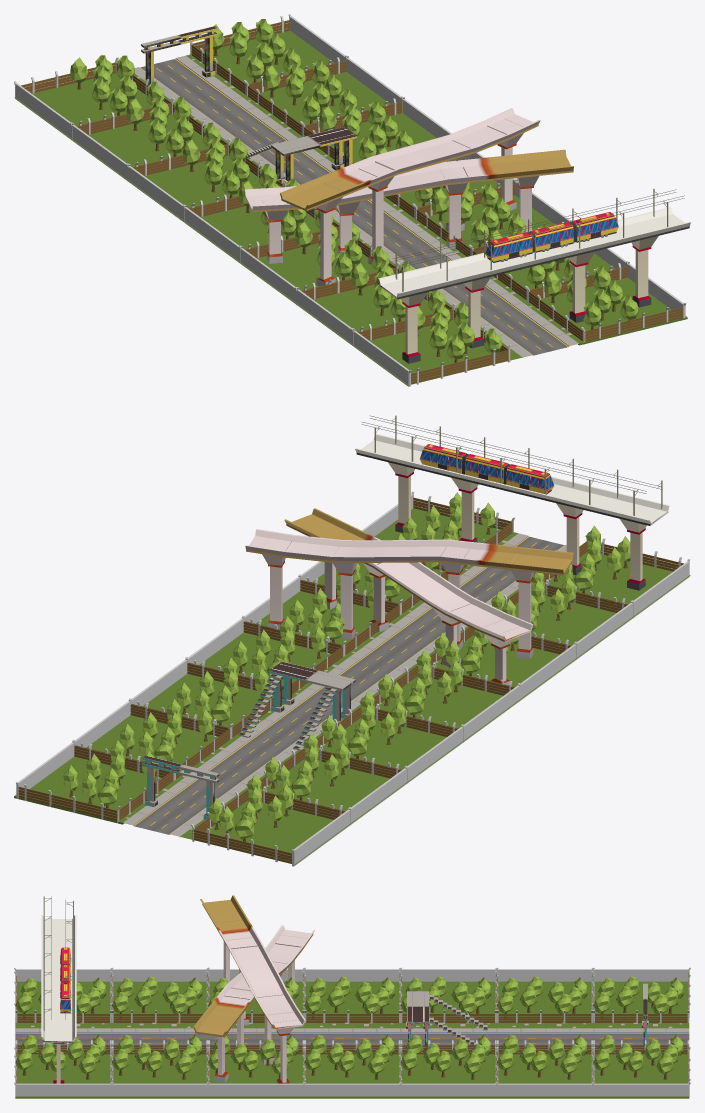
File: CityMaps02.fbx
The picture shows the model from 3 angles, top to bottom: view 1: azimuth 30°, elevation 25°; view 2: azimuth 150°, elevation 25°; view 3: azimuth 270°, elevation 25°; orthographic projection. The views are drawn at different scales.
Visible parts, largest first — view 1: BR_Map14, BR_Map12, BR_Map08, BR_Map09, BR_Map10, BR_Map13, BR_Map11; view 2: BR_Map12, BR_Map14, BR_Map08, BR_Map10, BR_Map09, BR_Map11, BR_Map13; view 3: BR_Map12, BR_Map14, BR_Map08, BR_Map11, BR_Map10, BR_Map09, BR_Map13.
Part boxes in pixels (left/top/right/bottom): BR_Map14: left=351, top=188, right=690, bottom=386; BR_Map12: left=239, top=108, right=573, bottom=303; BR_Map08: left=14, top=14, right=348, bottom=139; BR_Map09: left=70, top=55, right=404, bottom=180; BR_Map10: left=126, top=96, right=451, bottom=221; BR_Map13: left=295, top=220, right=629, bottom=345; BR_Map11: left=182, top=145, right=517, bottom=262; BR_Map12: left=242, top=508, right=577, bottom=700; BR_Map14: left=355, top=415, right=690, bottom=617; BR_Map08: left=14, top=739, right=351, bottom=866; BR_Map10: left=129, top=657, right=464, bottom=783; BR_Map09: left=72, top=698, right=407, bottom=824; BR_Map11: left=185, top=615, right=520, bottom=741; BR_Map13: left=298, top=533, right=633, bottom=659; BR_Map12: left=193, top=895, right=315, bottom=1098; BR_Map14: left=14, top=896, right=113, bottom=1098; BR_Map08: left=591, top=967, right=690, bottom=1098; BR_Map11: left=302, top=967, right=402, bottom=1098; BR_Map10: left=399, top=967, right=498, bottom=1098; BR_Map09: left=495, top=967, right=594, bottom=1098; BR_Map13: left=110, top=967, right=209, bottom=1098.
Bounding box in the file's own units: 12267 × 4140 × 28130.
Materials: 2 (2 with a texture image).
